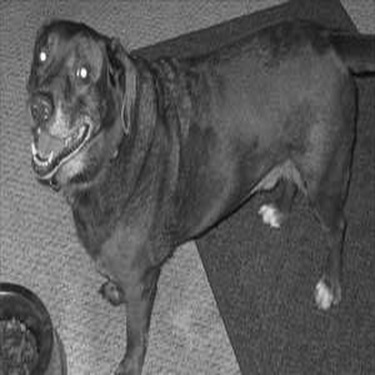dog: (21, 16, 371, 370)
